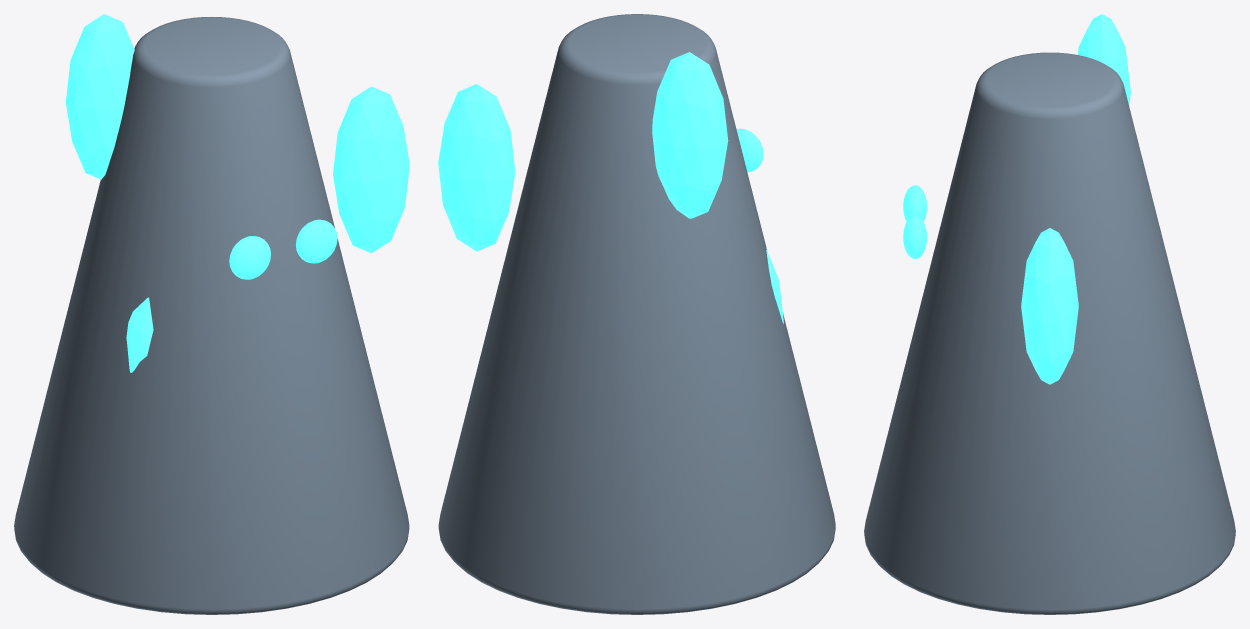
The model's file is wraith.glb.
The picture shows the model from 3 angles, left to right: view 1: azimuth 30°, elevation 25°; view 2: azimuth 150°, elevation 25°; view 3: azimuth 270°, elevation 25°; orthographic projection. The views are drawn at different scales.
Parts seen in each view (by area): view 1: WRAITH_BODY_PRIMARY, ENERGY_SHARD_EMISSIVE, ENERGY_SHARD_EMISSIVE.001, EYE_EMISSIVE.001, EYE_EMISSIVE, ENERGY_SHARD_EMISSIVE.002; view 2: WRAITH_BODY_PRIMARY, ENERGY_SHARD_EMISSIVE, ENERGY_SHARD_EMISSIVE.001, EYE_EMISSIVE; view 3: WRAITH_BODY_PRIMARY, ENERGY_SHARD_EMISSIVE, ENERGY_SHARD_EMISSIVE.001, EYE_EMISSIVE.001, EYE_EMISSIVE.
Part boxes in pixels (<box>): WRAITH_BODY_PRIMARY: <box>14,17,409,614</box>; ENERGY_SHARD_EMISSIVE: <box>333,86,409,253</box>; ENERGY_SHARD_EMISSIVE.001: <box>65,14,134,179</box>; EYE_EMISSIVE.001: <box>296,219,337,263</box>; EYE_EMISSIVE: <box>229,236,270,279</box>; ENERGY_SHARD_EMISSIVE.002: <box>126,297,153,372</box>; WRAITH_BODY_PRIMARY: <box>438,14,835,614</box>; ENERGY_SHARD_EMISSIVE: <box>438,84,515,251</box>; ENERGY_SHARD_EMISSIVE.001: <box>652,52,728,218</box>; EYE_EMISSIVE: <box>736,128,763,172</box>; WRAITH_BODY_PRIMARY: <box>864,52,1235,614</box>; ENERGY_SHARD_EMISSIVE: <box>1021,228,1078,384</box>; ENERGY_SHARD_EMISSIVE.001: <box>1078,14,1130,105</box>; EYE_EMISSIVE.001: <box>903,216,927,258</box>; EYE_EMISSIVE: <box>903,185,927,221</box>.
Bounding box in the file's own units: 1.64 × 2.24 × 1.54.
